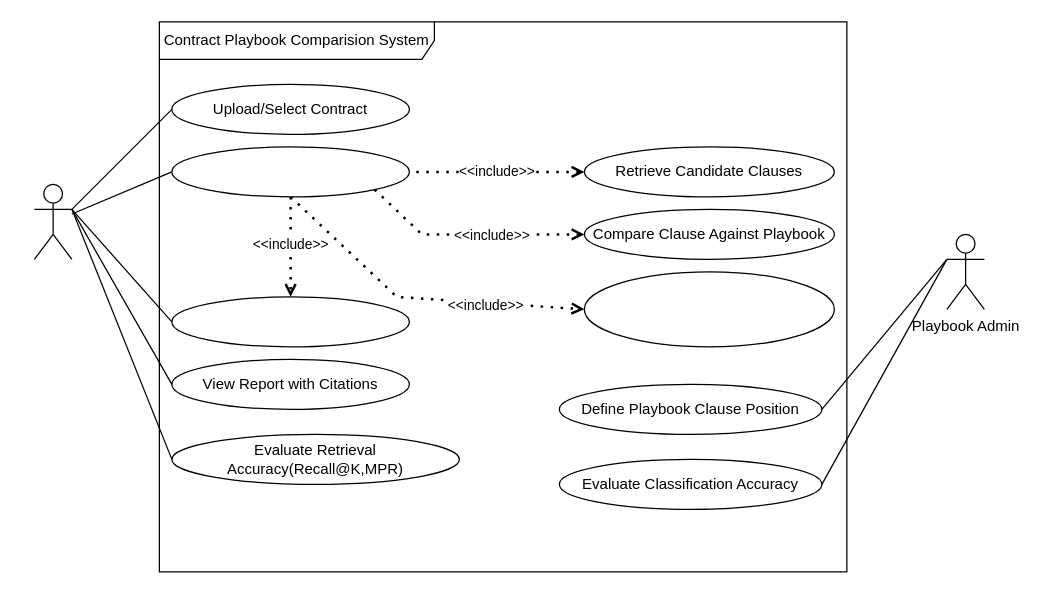
The diagram is 1041 pixels wide and 594 high, and some of its shapes have lost their labels. Here are the shapes that lost their labels. From the top down, the box of each, then its label:
(171, 146, 409, 197): Run Contract Review
(33, 183, 72, 259): Reviewer
(171, 296, 409, 347): Generate Structured Report
(583, 271, 834, 347): Classify Clause Status(Match/Deviation/Missing)
